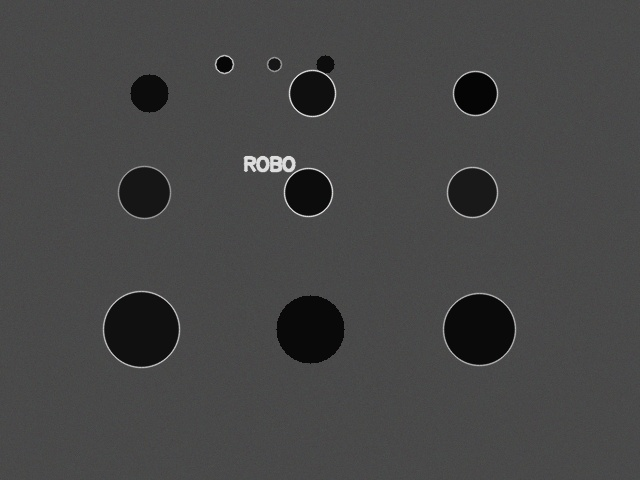hole: (103, 291, 179, 367), (443, 293, 515, 365), (276, 295, 344, 363), (118, 166, 170, 218), (447, 167, 497, 217), (284, 168, 332, 216), (289, 70, 335, 116), (453, 71, 497, 115), (130, 74, 168, 112), (215, 55, 233, 73), (316, 55, 334, 73), (267, 57, 281, 71)
